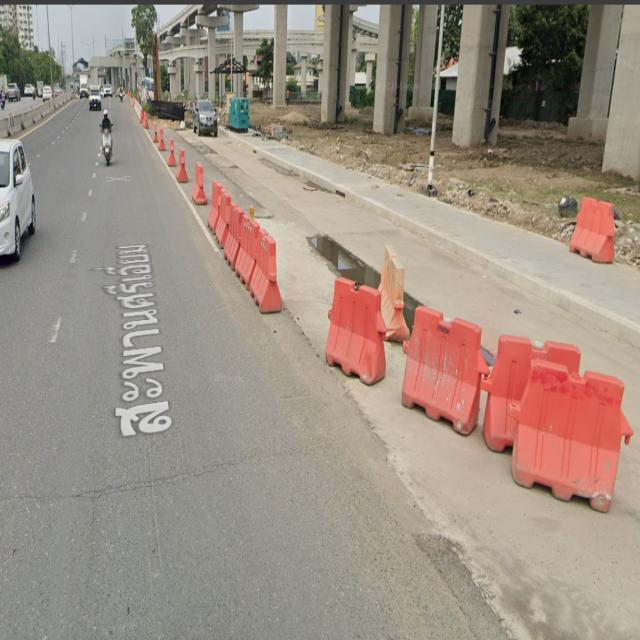fallen_object: (385, 296, 626, 502), (189, 170, 276, 315), (317, 250, 394, 405), (126, 100, 209, 204), (551, 183, 640, 269)
